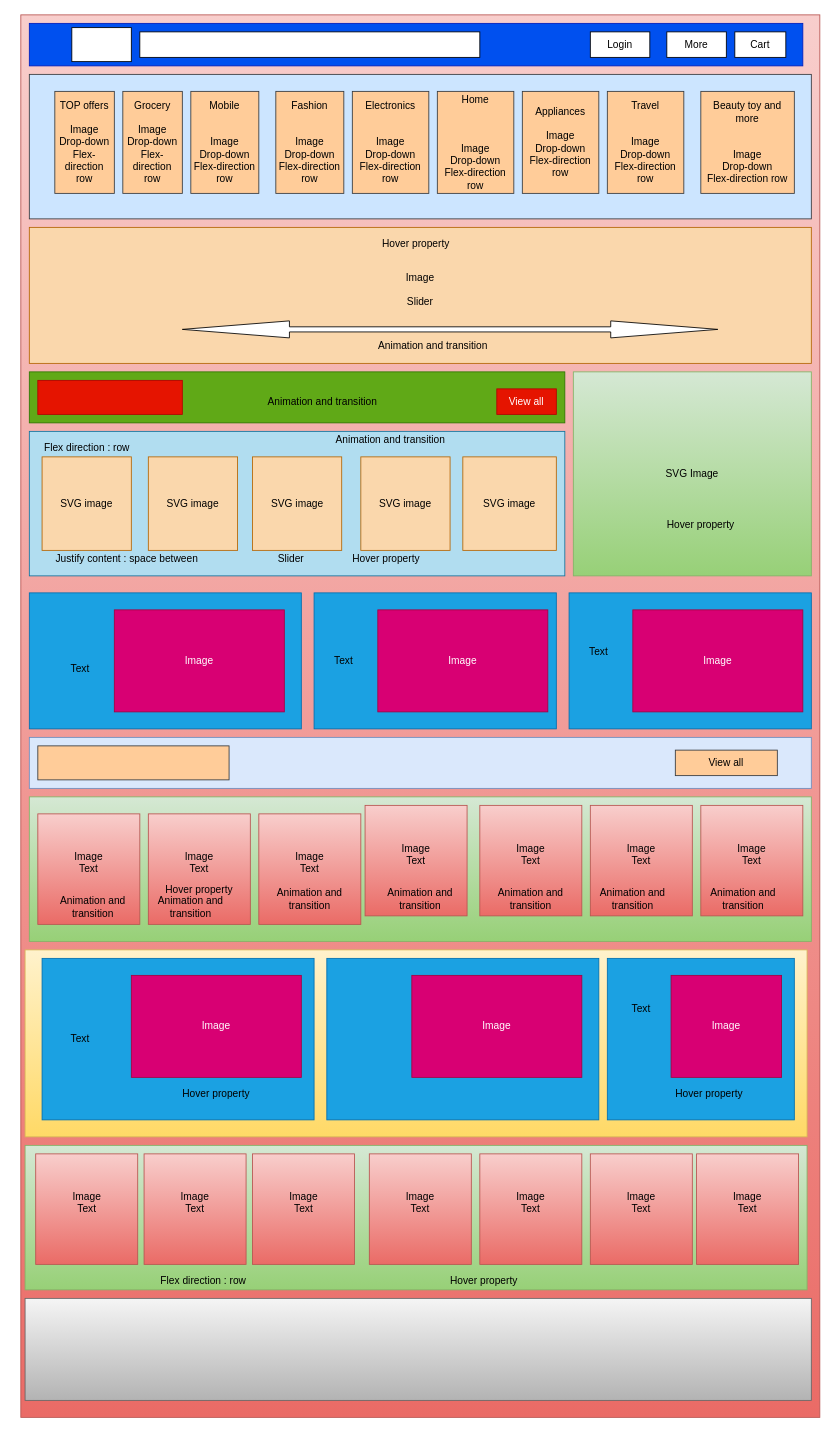
The diagram is 835 pixels wide and 1432 high, and some of its shapes have lost their labels. The shapes that lost their labels are listed below. From the top down, each one's centre as x and y in pixels, then its label:
At [101,44]: "Flipcart Explore Plus".
At [309,44]: "Search".
At [109,397]: "Super saver deals of the day".
At [133,762]: "Today's fashion deal".
